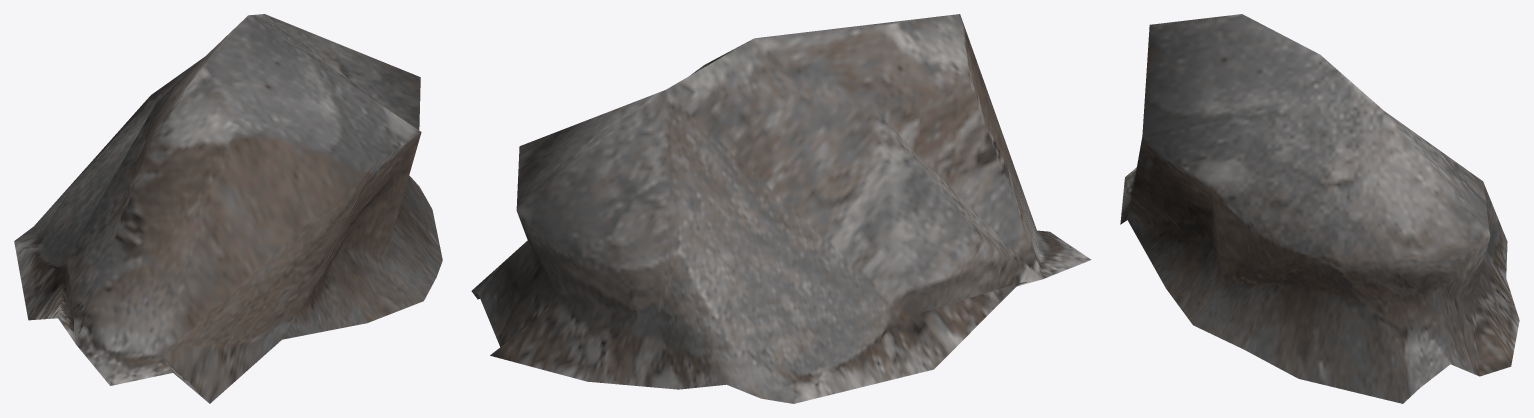
Rendered from forest_rock_2.glb.
The picture shows the model from 3 angles, left to right: view 1: azimuth 30°, elevation 25°; view 2: azimuth 150°, elevation 25°; view 3: azimuth 270°, elevation 25°; orthographic projection. The views are drawn at different scales.
Parts seen in each view (by area): view 1: Rocks.002_Rocks_0; view 2: Rocks.002_Rocks_0; view 3: Rocks.002_Rocks_0.
Part boxes in pixels (x1,y1,x2,y2): Rocks.002_Rocks_0: (14,14,442,403); Rocks.002_Rocks_0: (471,14,1091,403); Rocks.002_Rocks_0: (1120,14,1519,403).
Size of the model in its own units: 2.6 by 1.53 by 2.18.
Materials: 1 (1 with a texture image).
